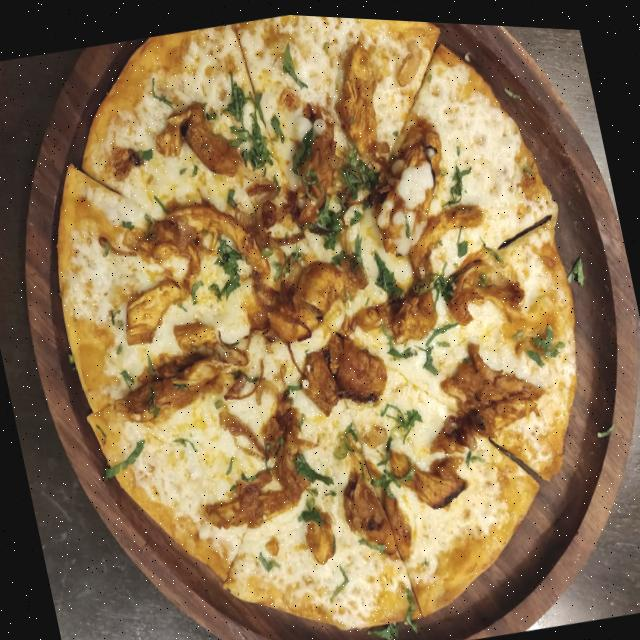pizza: (5, 0, 639, 640)
